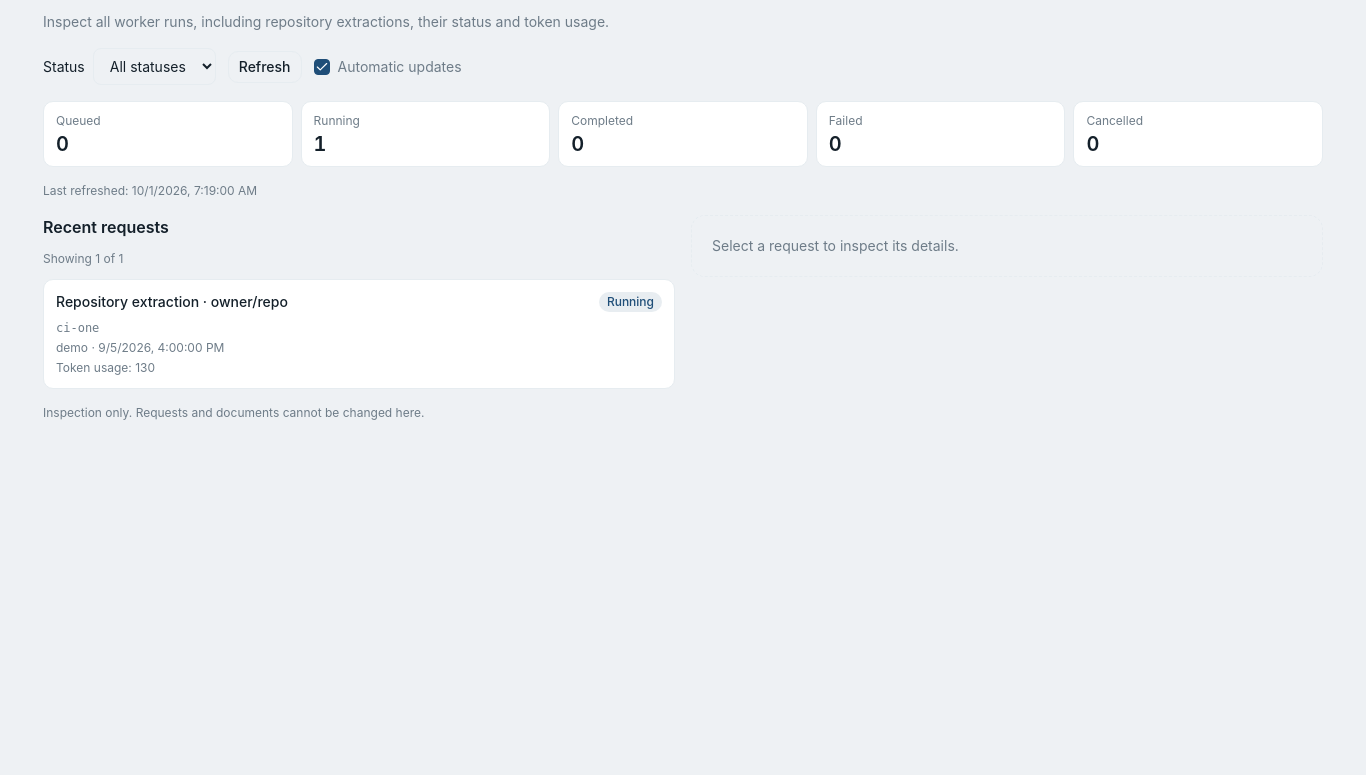
Test: shows extraction scope, usage and both review links in the shared queue
The image size is (1366, 775).
Click the button "Repository extraction". click: (172, 302)
box: [43,279,675,389]
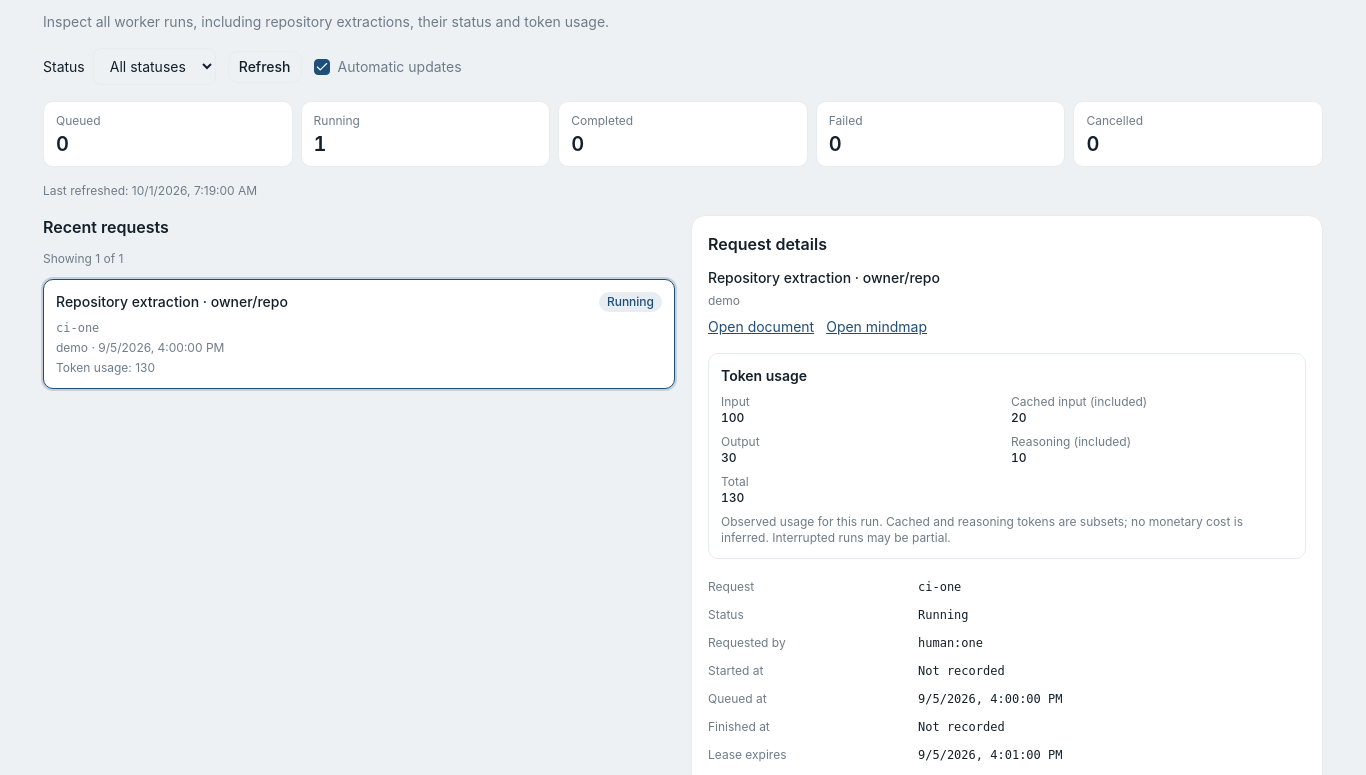
Now the link "Open mindmap" is shown, box [826,318,927,335]
Now the text "130" is shown, box [721,490,744,505]
Now the text "Cached input (included)" is shown, box [1011,394,1147,409]
